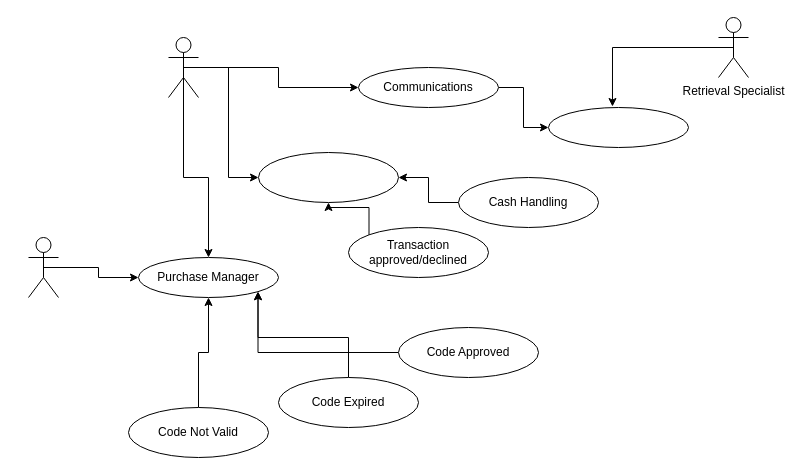
The diagram is 802 pixels wide and 475 high, and some of its shapes have lost their labels. Each missing label, with the box of its shape:
Call Retrieval Specialist: (548, 106, 688, 148)
Customer: (28, 236, 58, 298)
Register: (258, 152, 398, 202)
Till Worker: (168, 36, 198, 98)
